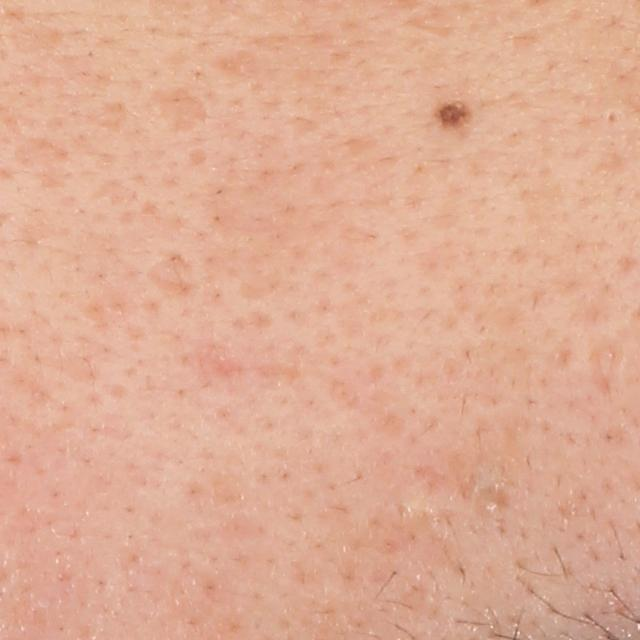atrophic_scar: (135, 246, 198, 307), (150, 84, 211, 134), (585, 339, 620, 391), (90, 99, 130, 132)
comedo: (478, 490, 507, 520), (598, 104, 626, 124)
nevus: (429, 97, 477, 130)
